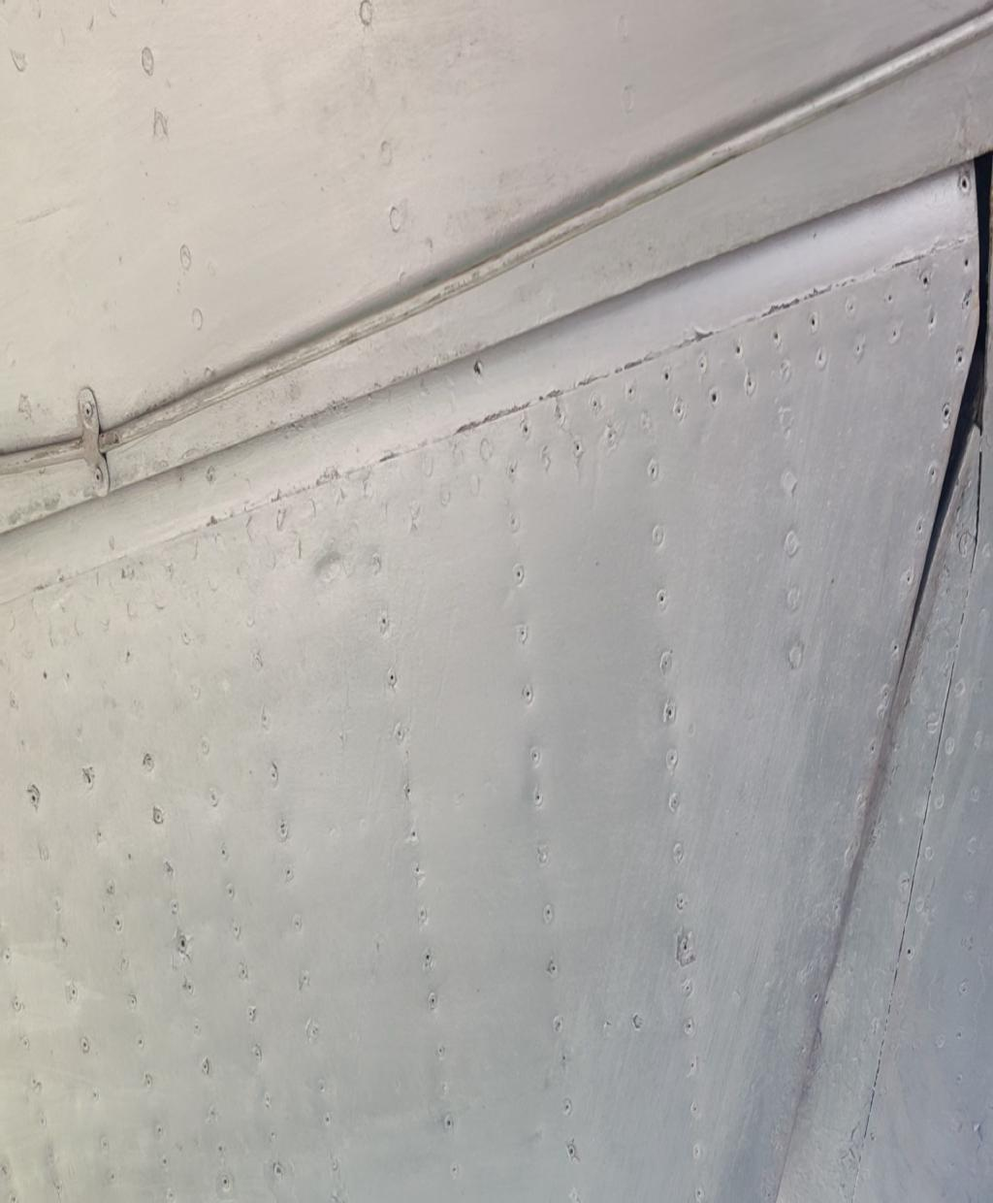dent: (305, 535, 354, 595)
